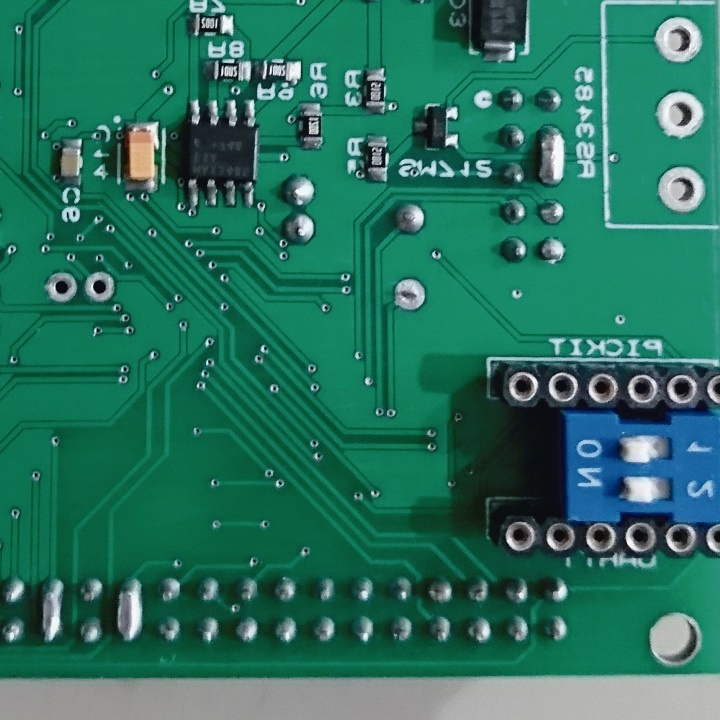F: (651, 11, 705, 69), (652, 87, 707, 141), (654, 162, 707, 216), (393, 275, 429, 316), (44, 267, 79, 308), (82, 269, 114, 306)
P: (533, 120, 570, 189), (113, 572, 147, 646), (37, 572, 67, 648)
